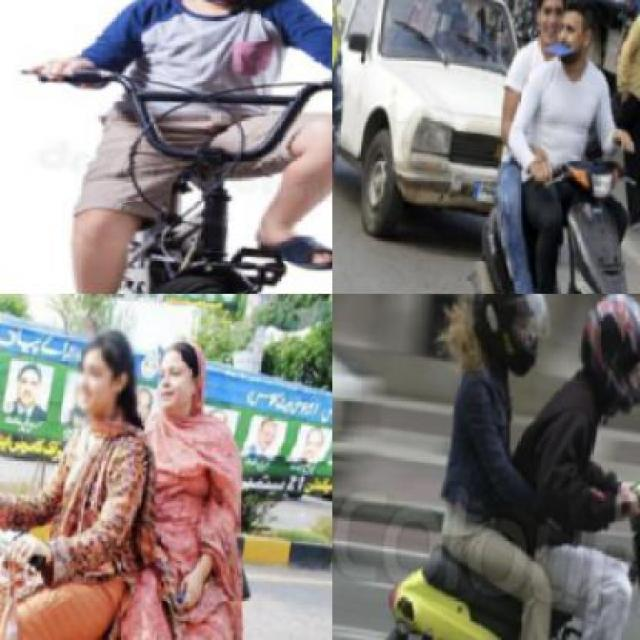With Helmet: (460, 294, 560, 386), (574, 294, 638, 420)
Without Helmet: (60, 318, 146, 434), (149, 330, 216, 424), (557, 0, 603, 49), (531, 0, 574, 31)
